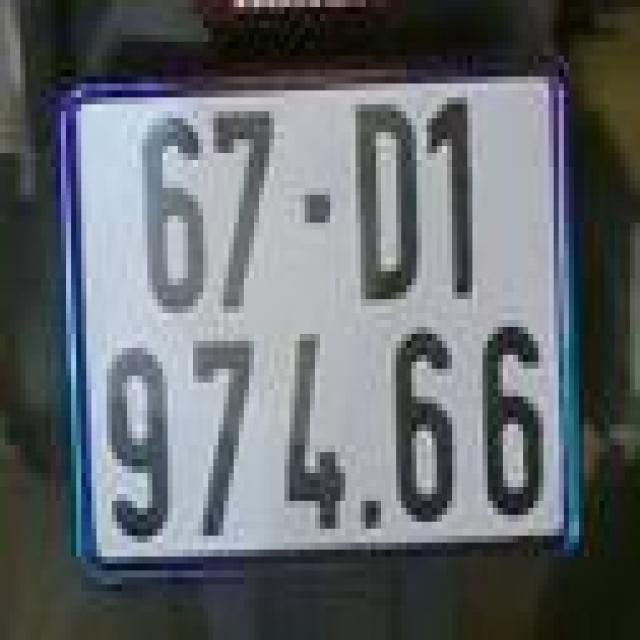1: (424, 91, 500, 299)
4: (274, 306, 350, 557)
6: (122, 101, 213, 337), (383, 313, 465, 536), (475, 306, 556, 529)
7: (178, 317, 264, 553), (201, 94, 287, 316)
9: (94, 320, 180, 557)
D: (328, 84, 434, 313)
